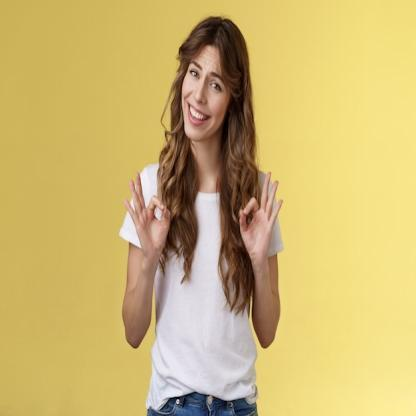ok: (123, 168, 175, 270), (236, 166, 286, 268)
